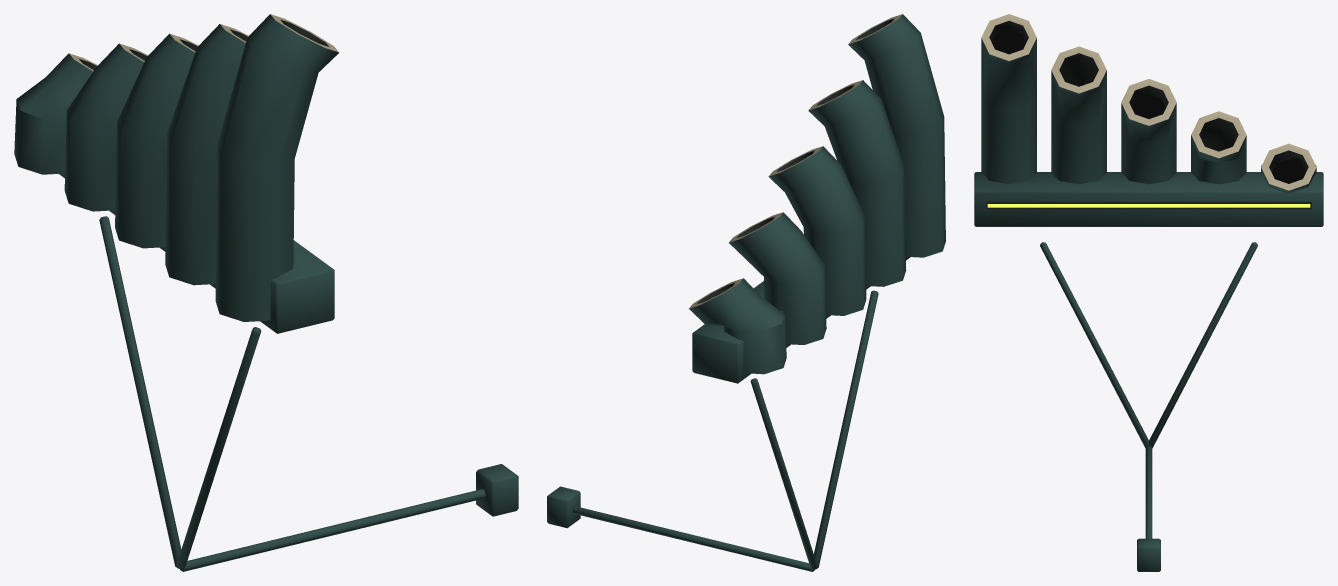
Rendered from warden_mantle_choir.glb.
3 views of the same model, side by side, from view 1: azimuth 30°, elevation 25°; view 2: azimuth 150°, elevation 25°; view 3: azimuth 270°, elevation 25° (orthographic). The views are drawn at different scales.
Visible parts, largest first — view 1: ChoirFiveHorns, ChoirShoeL, ChoirRearComb, ChoirShoeR; view 2: ChoirFiveHorns, ChoirShoeL, ChoirRearComb, ChoirShoeR; view 3: ChoirFiveHorns, ChoirRearComb, ChoirShoeL, ChoirShoeR.
Part boxes in pixels (x1,y1,x2,y2): ChoirFiveHorns: (14, 14, 339, 321); ChoirShoeL: (99, 216, 518, 571); ChoirRearComb: (59, 173, 334, 333); ChoirShoeR: (176, 327, 261, 569); ChoirFiveHorns: (689, 14, 945, 374); ChoirShoeL: (547, 378, 817, 571); ChoirRearComb: (692, 256, 910, 383); ChoirShoeR: (814, 290, 878, 568); ChoirFiveHorns: (981, 14, 1316, 193); ChoirRearComb: (974, 172, 1323, 226); ChoirShoeL: (1137, 242, 1257, 571); ChoirShoeR: (1040, 242, 1148, 447).
Size of the model in its own units: 3.96 by 6.17 by 4.4.
